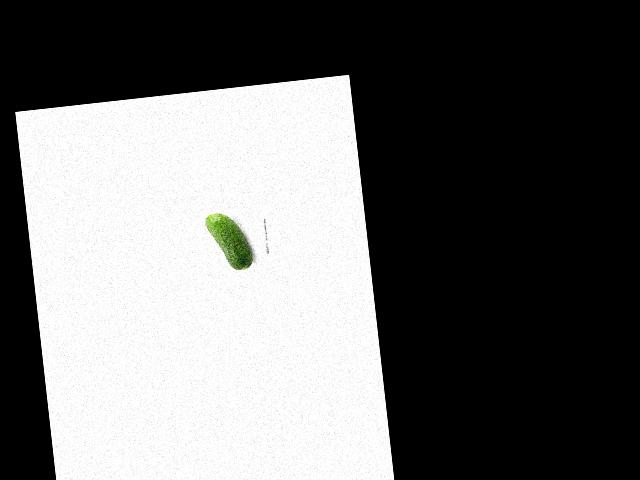cucumber: (204, 210, 254, 273)
